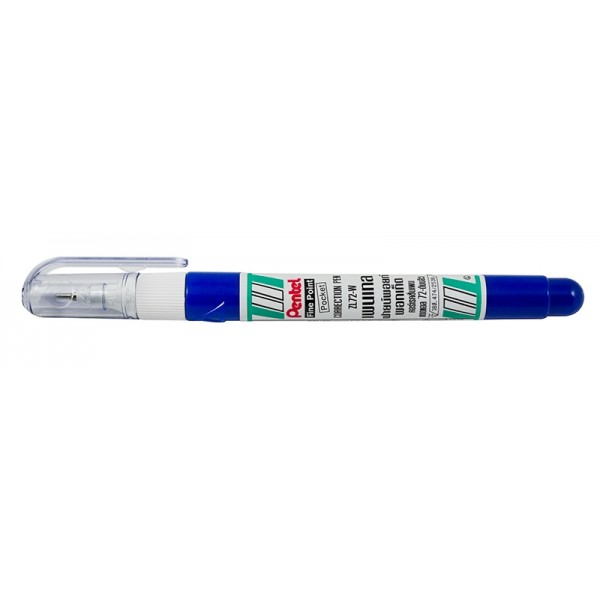Correction_fluid: (15, 244, 590, 337)
